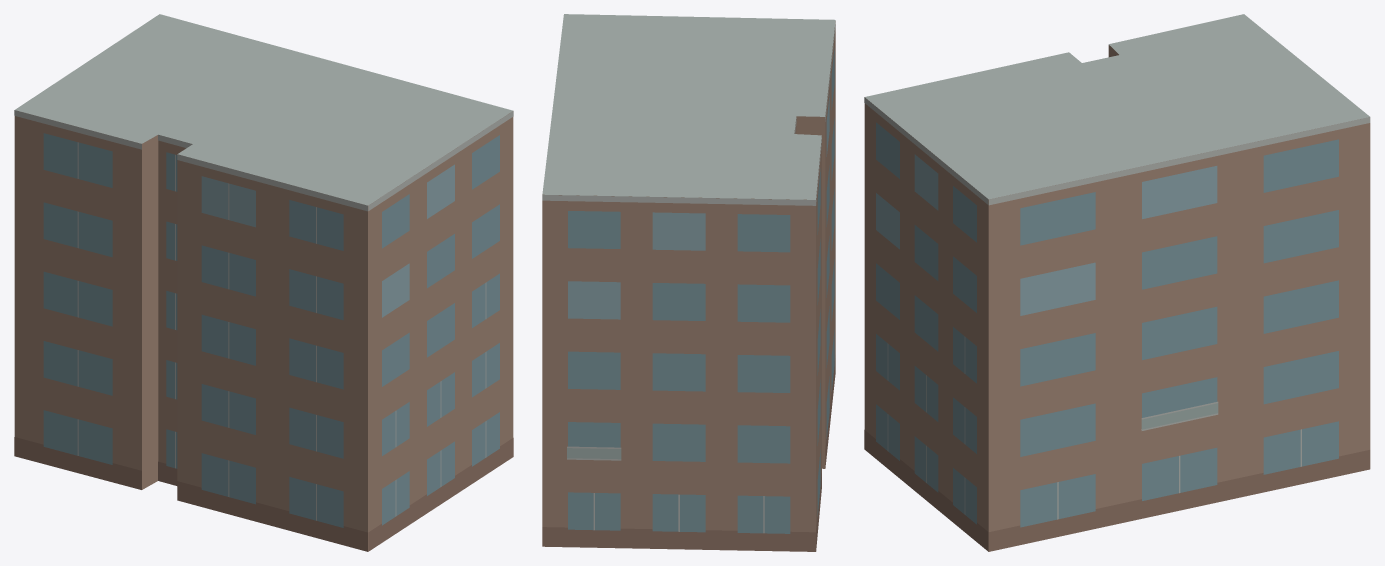
Rendered from survey-upis-32837276.glb.
3 renders of one model, left to right at view 1: azimuth 30°, elevation 25°; view 2: azimuth 150°, elevation 25°; view 3: azimuth 270°, elevation 25°, orthographic.
Parts seen in each view (by area): view 1: survey-upis-32837276.tmp; view 2: survey-upis-32837276.tmp; view 3: survey-upis-32837276.tmp.
Part boxes in pixels (x1,y1,x2,y2): survey-upis-32837276.tmp: (14,14,513,551); survey-upis-32837276.tmp: (542,14,835,551); survey-upis-32837276.tmp: (864,14,1370,551).
Size of the model in its own units: 16.38 by 14.5 by 18.87.
